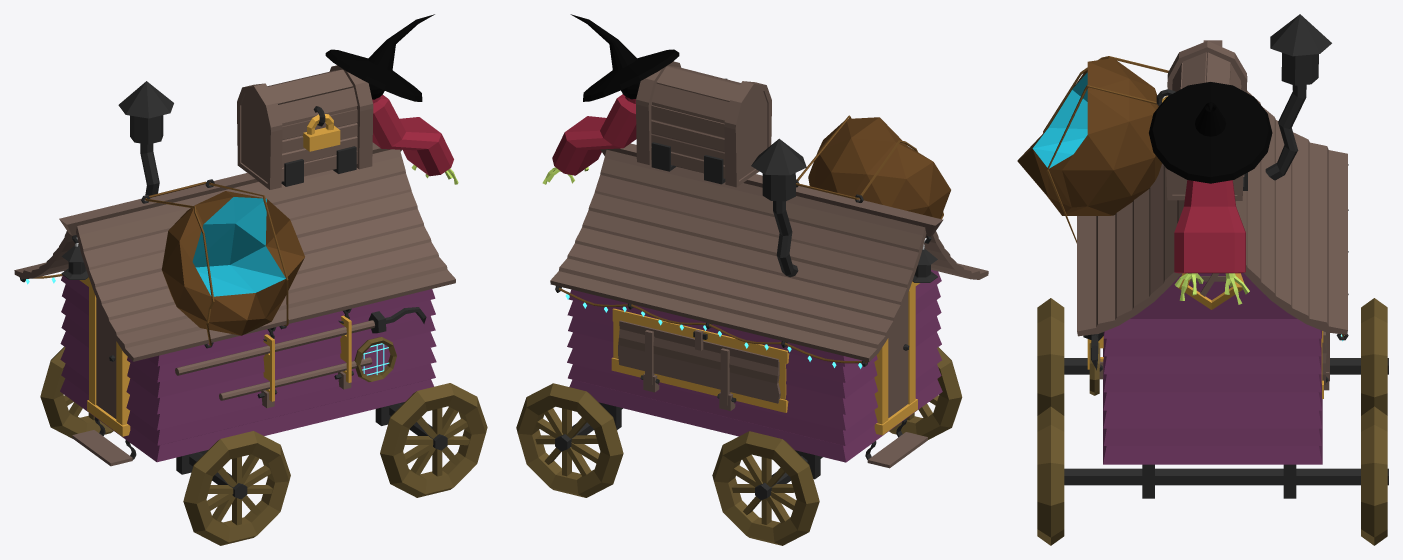
The model's file is wagon.glb.
The picture shows the model from 3 angles, left to right: view 1: azimuth 30°, elevation 25°; view 2: azimuth 150°, elevation 25°; view 3: azimuth 270°, elevation 25°; orthographic projection. The views are drawn at different scales.
Visible parts, largest first — view 1: Cube.002, body, Cube.001, geode, geode.001, Torus.002, Torus, Cylinder.004, Cylinder, Cylinder.005, Cube.012, Torus.001 (+14 smaller); view 2: Cube.003, body, Cube.001, geode, Cube.024, Torus.001, Torus.003, Cylinder.004, Cylinder, Cylinder.005, Cube.012, Torus (+11 smaller); view 3: body, Cube.003, geode, Cube.002, Cylinder.005, Cylinder.004, Cylinder.013, Cylinder, Torus.002, Cube.001, Torus.003, Torus (+7 smaller).
Boxes of the visible parts, x1,y1,x2,y2 form: Cube.002: (76,149,455,361); body: (60,270,436,462); Cube.001: (237,65,373,189); geode: (161,191,304,335); geode.001: (192,197,285,296); Torus.002: (380,383,487,497); Torus: (183,431,290,545); Cylinder.004: (372,95,453,176); Cylinder: (118,81,173,195); Cylinder.005: (325,14,434,101); Cube.012: (59,142,401,235); Torus.001: (40,346,113,438); Cube.003: (550,150,926,361); body: (567,269,942,462); Cube.001: (636,61,771,187); geode: (808,117,950,218); Cube.024: (618,320,780,403); Torus.001: (712,431,819,545); Torus.003: (516,383,623,497); Cylinder.004: (552,94,636,175); Cylinder: (751,138,806,277); Cylinder.005: (570,14,679,101); Cube.012: (600,143,943,236); Torus: (889,347,962,439); body: (1103,273,1322,464); Cube.003: (1235,90,1347,334); geode: (1017,58,1161,215); Cube.002: (1077,163,1184,336); Cylinder.005: (1149,82,1272,183); Cylinder.004: (1174,180,1245,273); Cylinder.013: (1064,468,1388,485); Cylinder: (1265,14,1331,180); Torus.002: (1037,406,1064,545); Cube.001: (1166,41,1247,200); Torus.003: (1361,406,1387,545); Torus: (1037,298,1064,415).
Size of the model in its own units: 17.48 by 17.79 by 12.9.
Materials: 12 (1 with a texture image).
